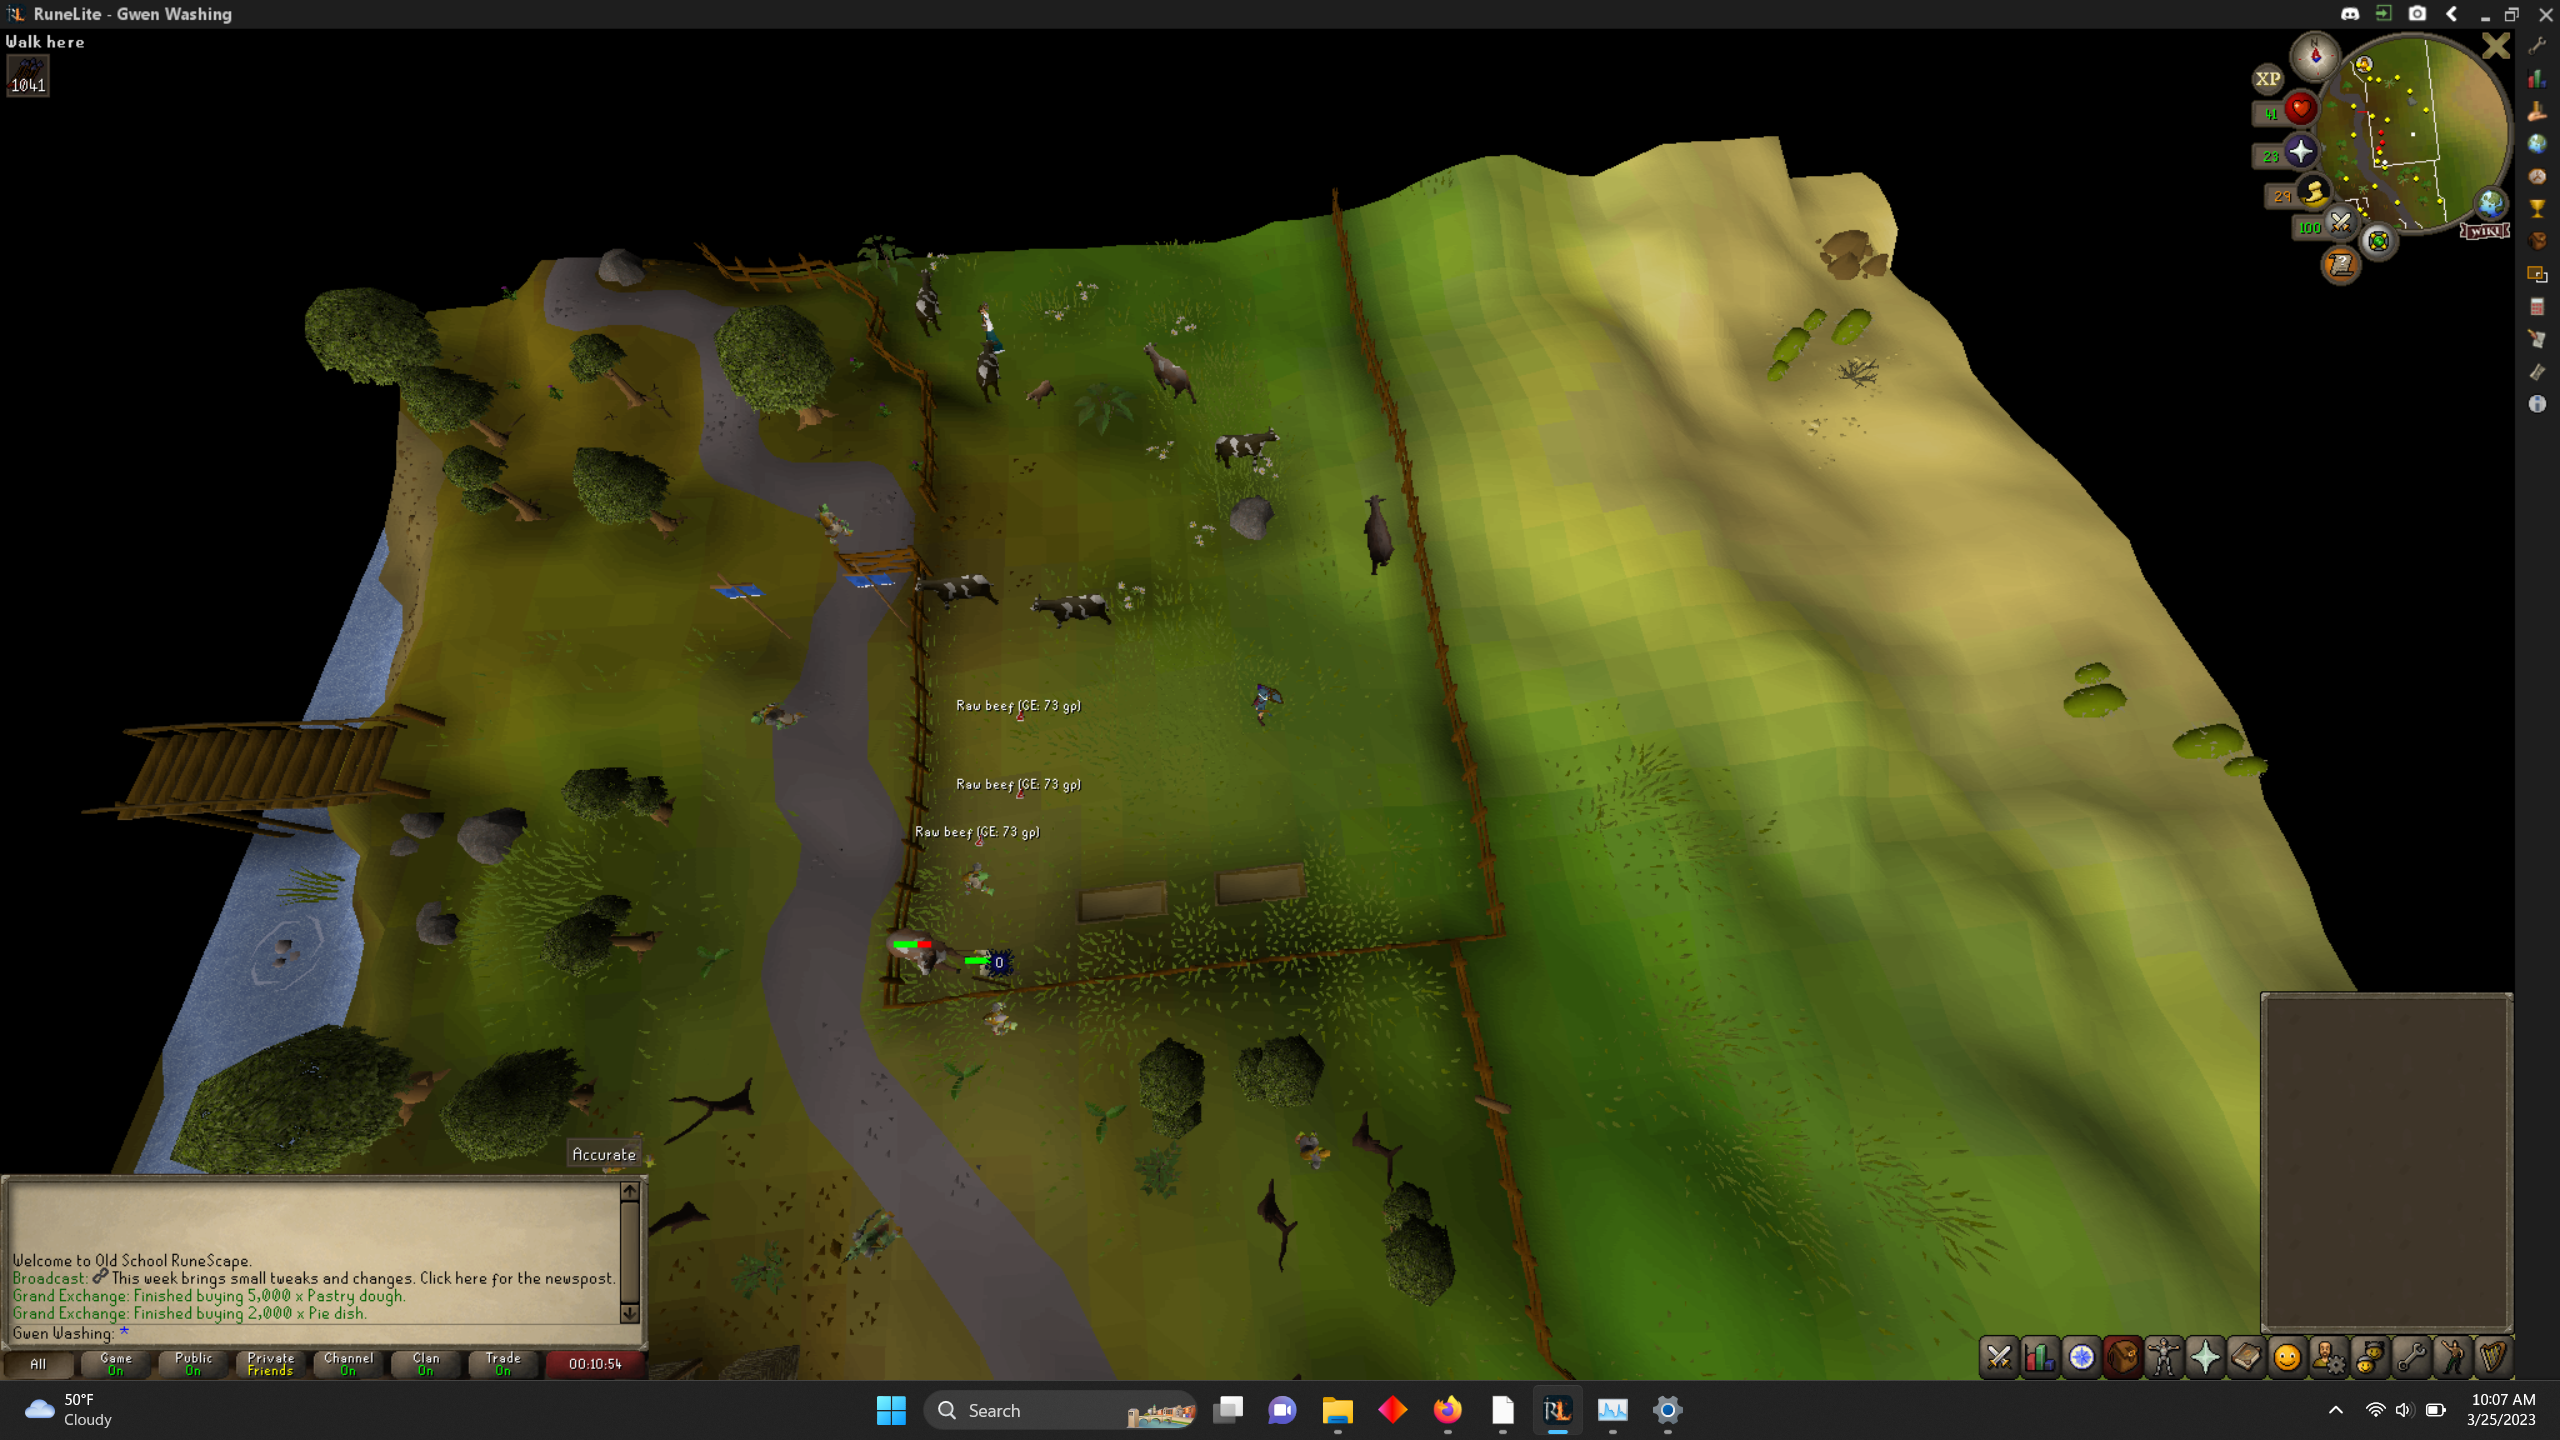cow: (876, 918, 965, 985), (1023, 587, 1122, 635), (1354, 489, 1403, 578), (913, 568, 1000, 617), (1139, 338, 1201, 406), (1211, 422, 1284, 475), (971, 332, 1009, 410), (913, 265, 942, 343), (1022, 369, 1062, 408)
